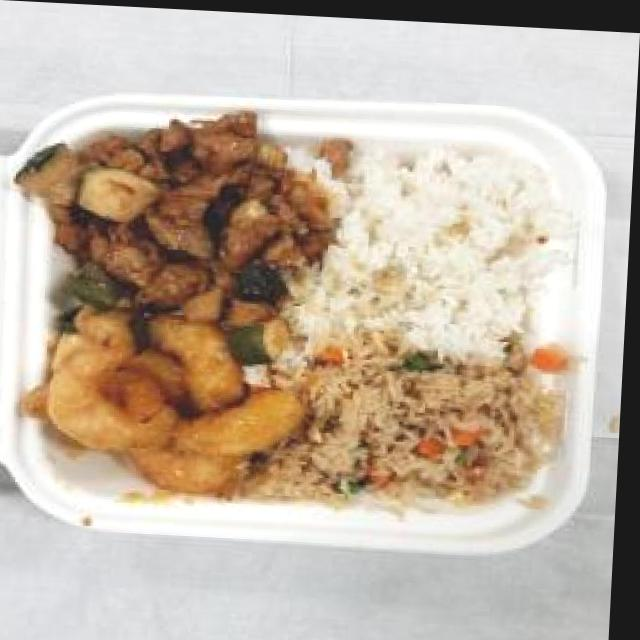Fried Rice: (280, 327, 577, 512)
Honey Walnut Shrimp: (13, 301, 311, 503)
Kung Pao Chicken: (10, 101, 334, 329)
White Steamed Rice: (327, 139, 565, 336)
